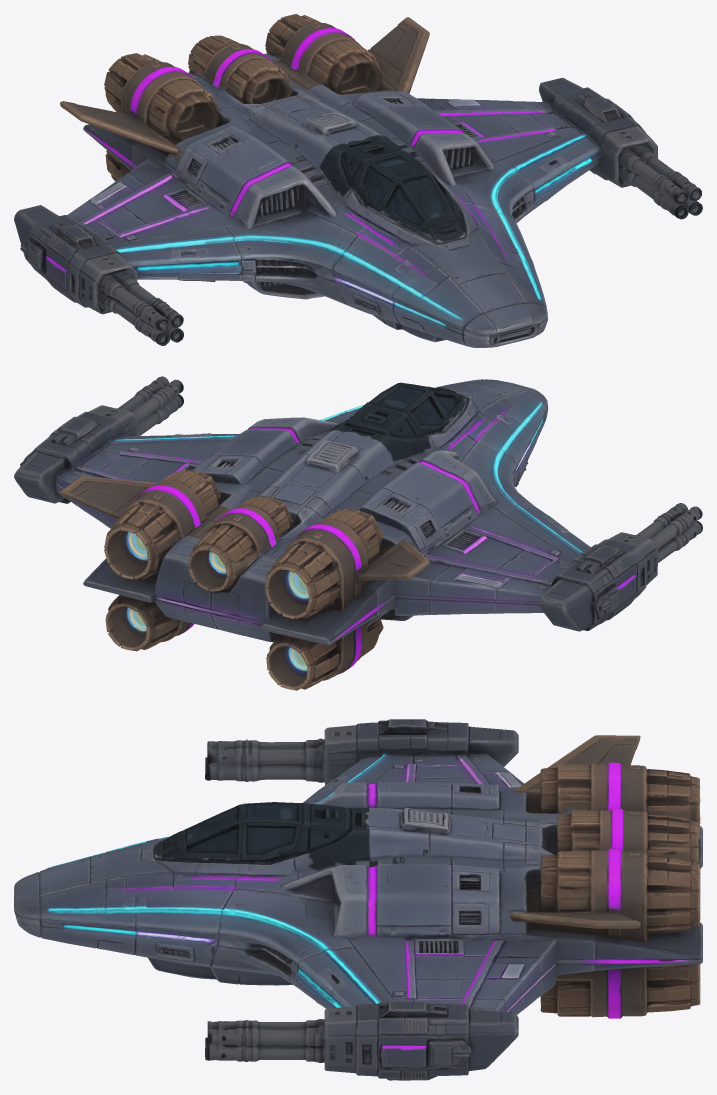
Rendered from starfighter.glb.
3 views of the same model, one above another, from view 1: azimuth 30°, elevation 25°; view 2: azimuth 150°, elevation 25°; view 3: azimuth 270°, elevation 25° (orthographic). The views are drawn at different scales.
Visible parts, largest first — view 1: body, wingL, wingR, cannonL, engineR, engineL, cannonR, canopy, engineC, finL; view 2: body, wingL, engineL, engineR, cannonL, cannonR, wingR, engineC, canopy, engineLL, engineLR, finL (+1 smaller); view 3: body, wingR, cannonR, engineR, cannonL, canopy, engineL, engineLR, engineC, wingL, finR.
Boxes of the visible parts, <box> form: body: <box>166,53,547,347</box>; wingL: <box>67,143,266,281</box>; wingR: <box>417,98,602,223</box>; cannonL: <box>14,205,183,345</box>; engineR: <box>265,14,429,94</box>; engineL: <box>60,53,220,161</box>; cannonR: <box>539,78,702,219</box>; canopy: <box>319,135,465,241</box>; engineC: <box>188,35,292,103</box>; finL: <box>83,124,141,170</box>; body: <box>154,379,548,642</box>; wingL: <box>367,491,590,616</box>; engineL: <box>265,509,429,619</box>; engineR: <box>60,469,230,579</box>; cannonL: <box>539,503,702,631</box>; cannonR: <box>14,376,183,503</box>; wingR: <box>55,411,345,528</box>; engineC: <box>188,496,292,591</box>; canopy: <box>328,382,465,461</box>; engineLL: <box>266,618,383,690</box>; engineLR: <box>105,595,194,651</box>; finL: <box>262,587,380,645</box>; body: <box>14,782,571,985</box>; wingR: <box>211,908,596,1014</box>; cannonR: <box>205,1001,518,1080</box>; engineR: <box>509,849,700,942</box>; cannonL: <box>205,719,518,785</box>; canopy: <box>154,802,369,870</box>; engineL: <box>513,735,700,838</box>; engineLR: <box>540,964,700,1018</box>; engineC: <box>557,808,698,863</box>; wingL: <box>302,753,523,804</box>; finR: <box>594,922,702,970</box>.
Size of the model in its own units: 1 by 0.2386 by 0.9231.
Materials: 1 (1 with a texture image).
